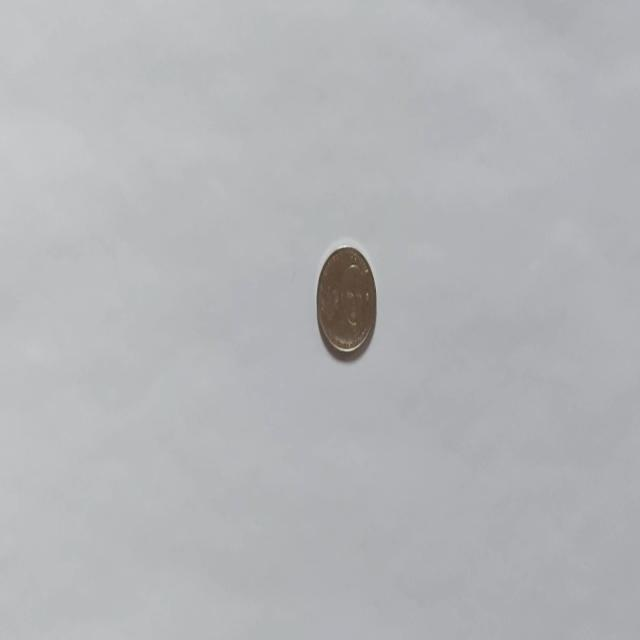seribu rupiah koin: (315, 240, 377, 358)
